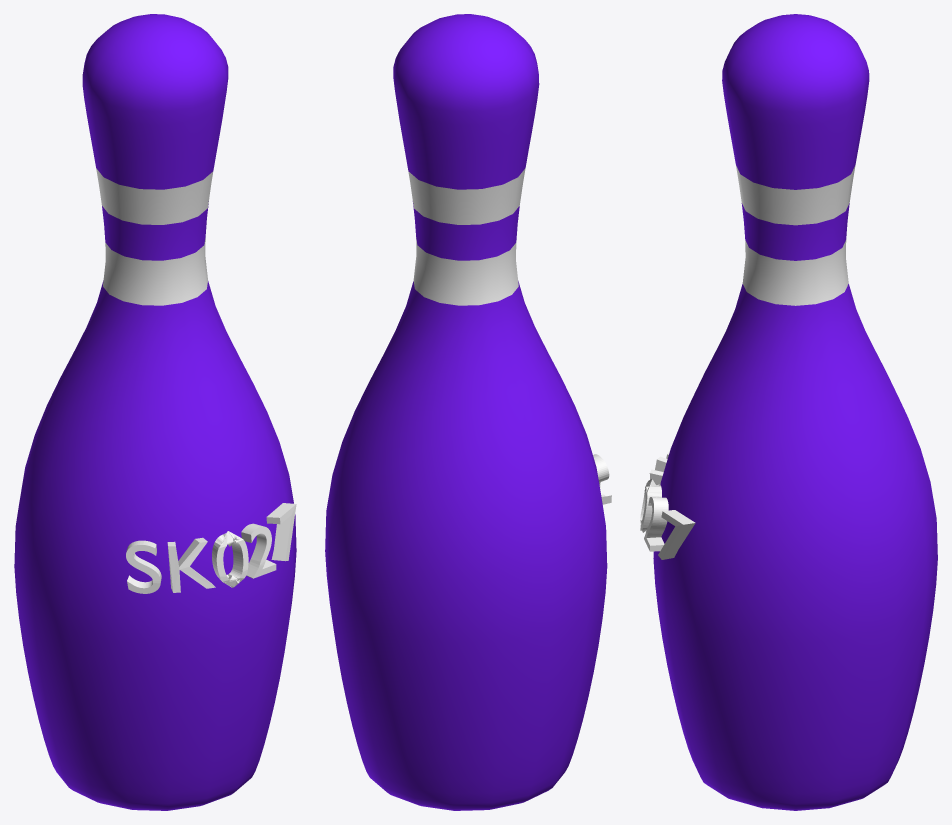
Rendered from bowlingPin.glb.
3 renders of one model, left to right at view 1: azimuth 30°, elevation 25°; view 2: azimuth 150°, elevation 25°; view 3: azimuth 270°, elevation 25°, orthographic.
Visible parts, largest first — view 1: pinStripe_3, Text; view 2: pinStripe_3; view 3: pinStripe_3, Text.
Boxes of the visible parts, left/top/right/bottom form: pinStripe_3: left=14, top=14, right=296, bottom=810; Text: left=126, top=503, right=296, bottom=593; pinStripe_3: left=325, top=14, right=607, bottom=810; pinStripe_3: left=653, top=14, right=937, bottom=810; Text: left=640, top=451, right=695, bottom=559.
Size of the model in its own units: 0.1126 by 0.3333 by 0.1179.
